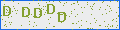D: (58, 12, 66, 22), (47, 4, 55, 14), (34, 8, 42, 18), (22, 7, 30, 17), (3, 6, 11, 16)
